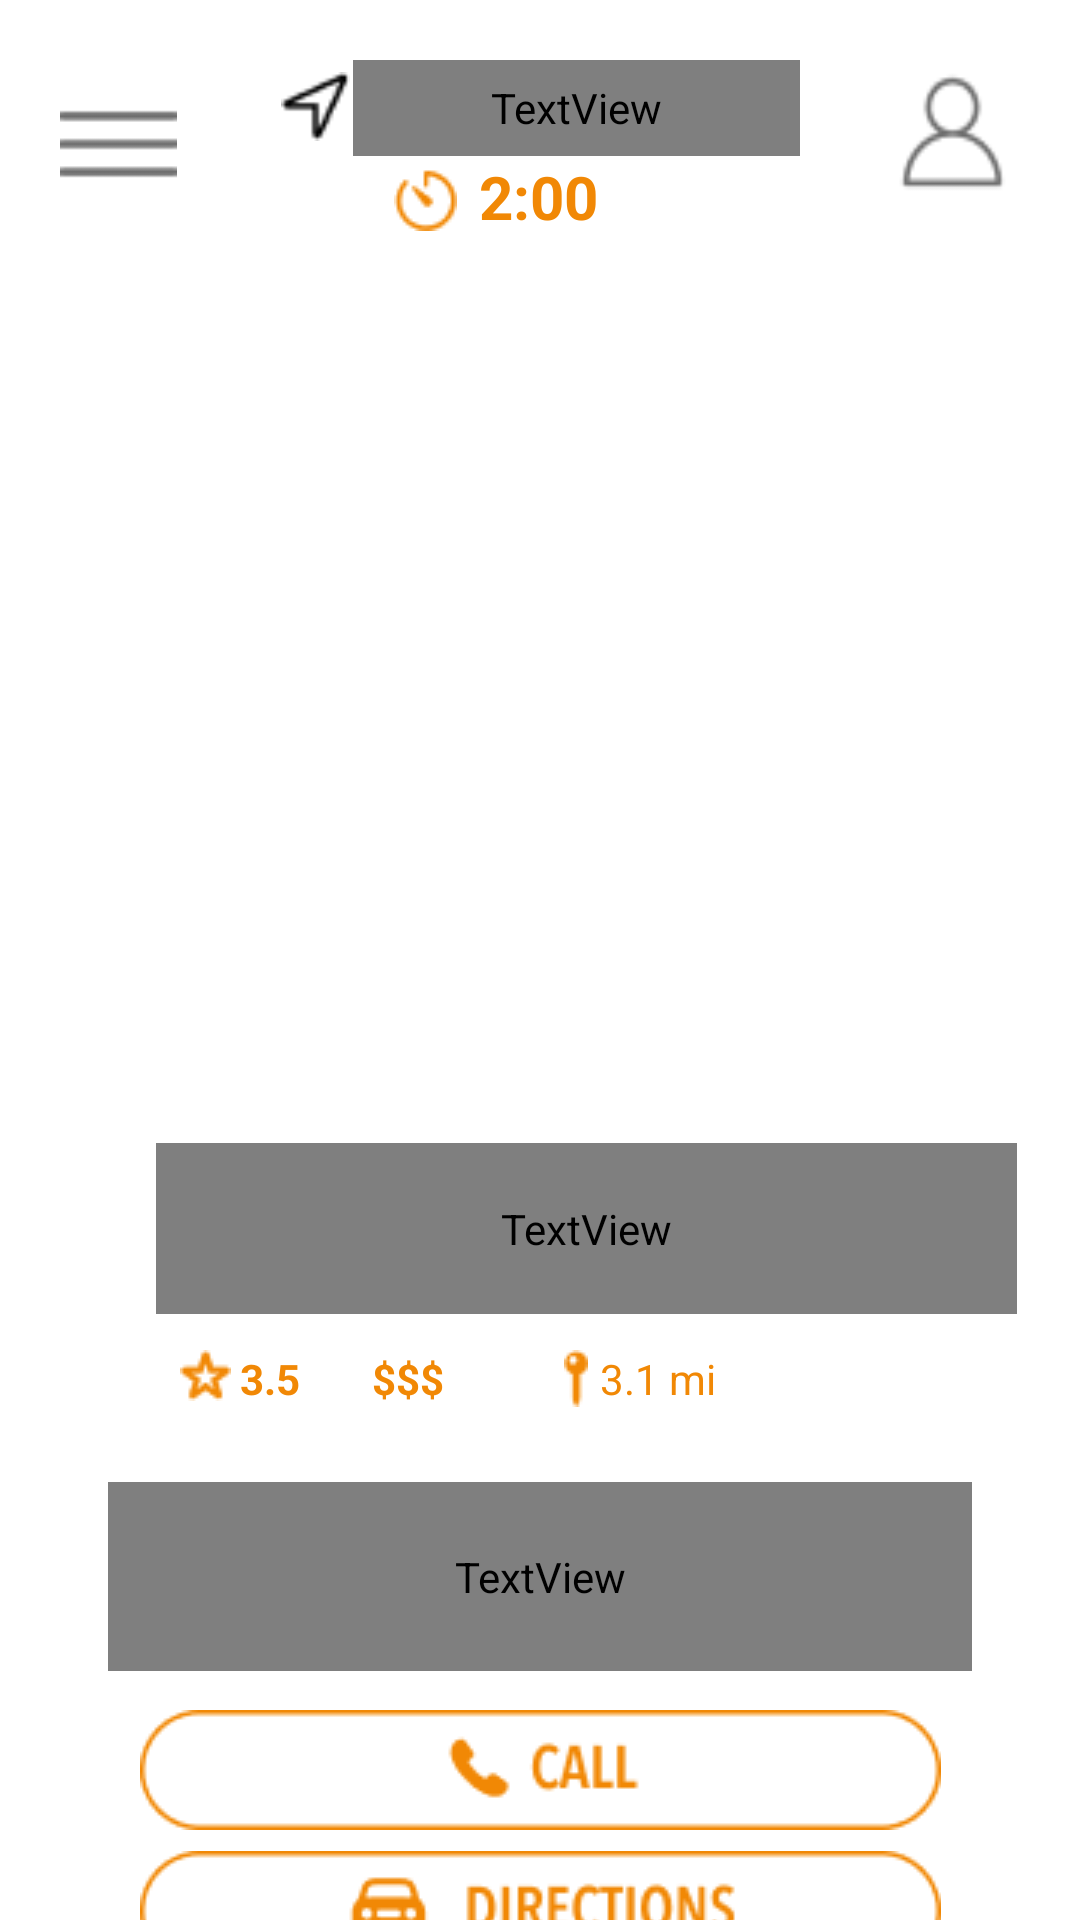

Where to tap for icons on this 1080px×1920px app screen, as (x=x, y=y):
hamburger menu: (x=118, y=144)
location: (x=314, y=106)
profile: (x=952, y=132)
star: (x=205, y=1375)
timer: (x=425, y=200)
